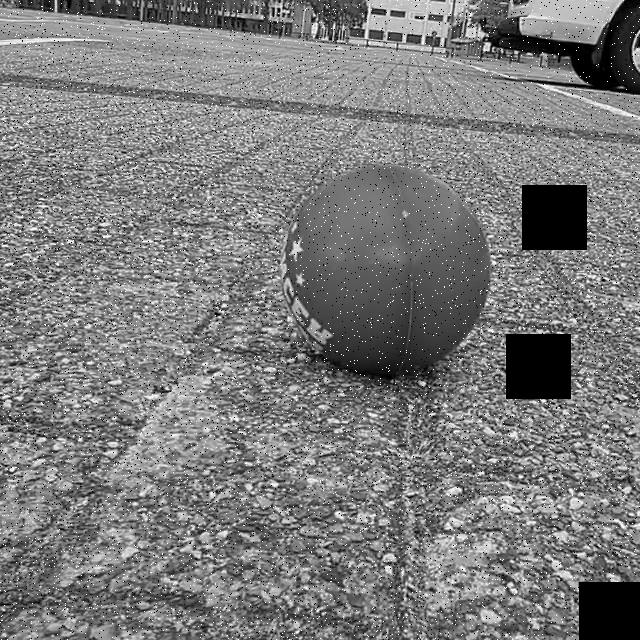ball: (276, 160, 496, 376)
